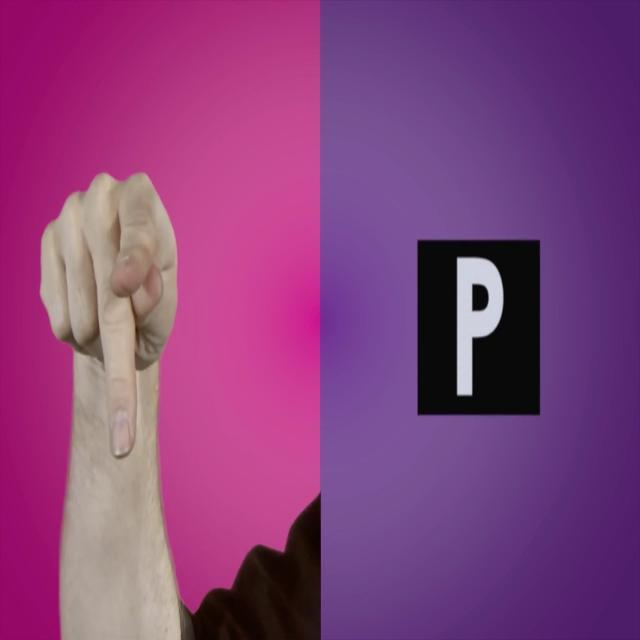P: (18, 136, 243, 640)
